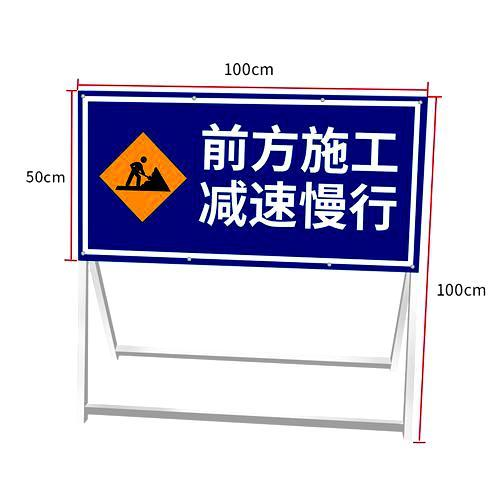sign: (80, 97, 421, 260)
